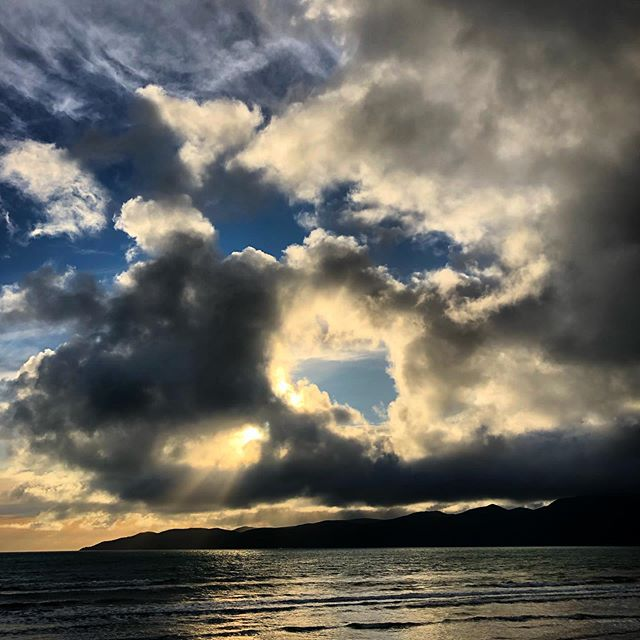sea: (1, 550, 619, 640)
sky: (1, 1, 640, 512)
